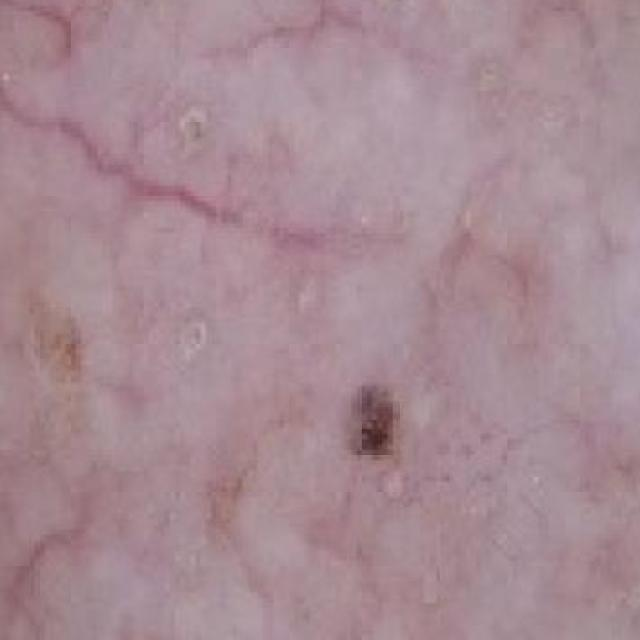BCC: (314, 350, 494, 546)
